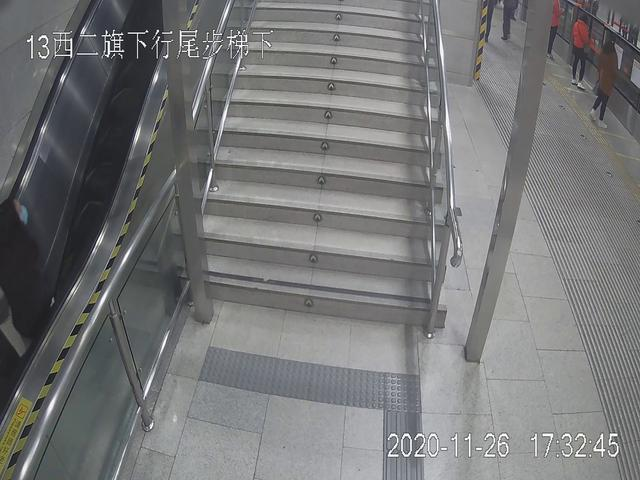person: (590, 30, 619, 128), (570, 11, 599, 89)
